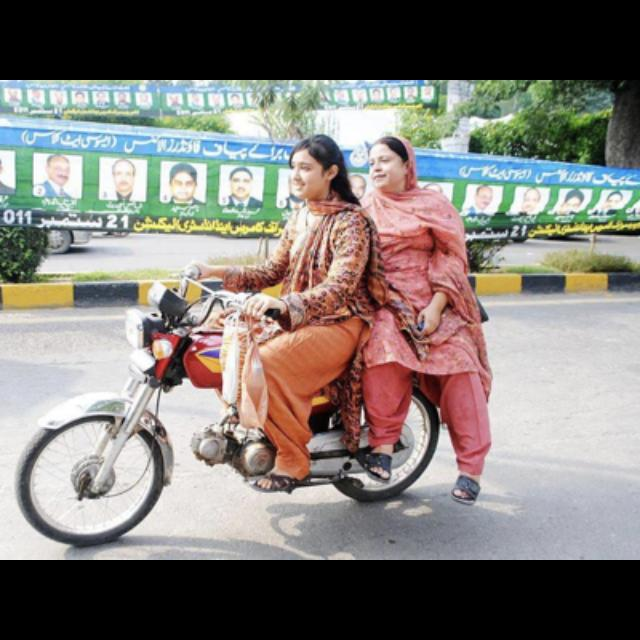Without Helmet: (277, 131, 349, 211)
